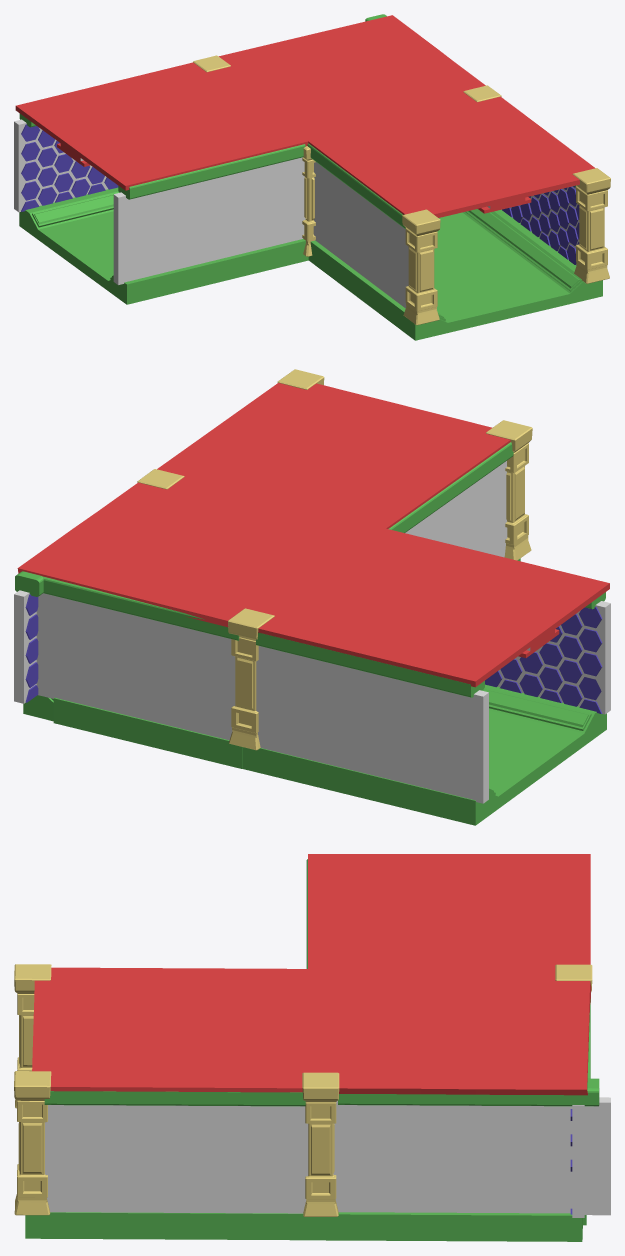
The model's file is soladirsek.fbx.
3 views of the same model, one above another, from view 1: azimuth 30°, elevation 25°; view 2: azimuth 150°, elevation 25°; view 3: azimuth 270°, elevation 25° (orthographic). The views are drawn at different scales.
Visible parts, largest first — view 1: Cube.001; view 2: Cube.001; view 3: Cube.001.
Boxes of the visible parts, left/top/right/bottom form: Cube.001: left=14, top=14, right=610, bottom=340; Cube.001: left=14, top=369, right=610, bottom=825; Cube.001: left=14, top=854, right=610, bottom=1241.
Bounding box in the file's own units: 4546 × 1381 × 4813.
